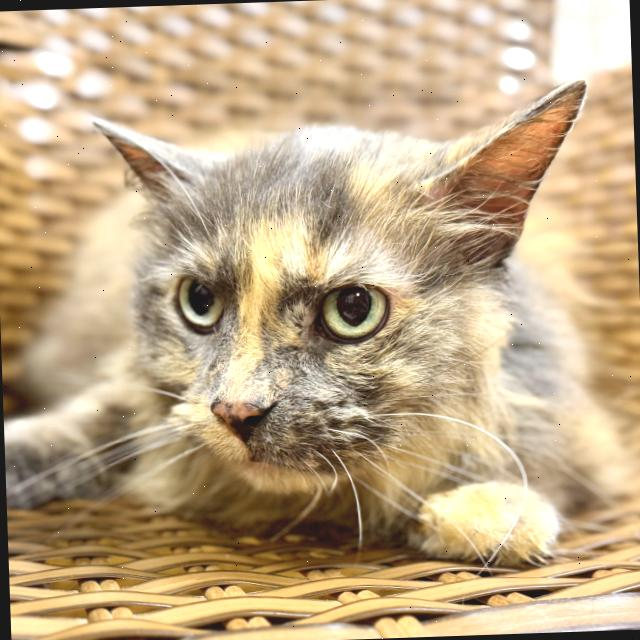manx_cat: (73, 61, 620, 512)
